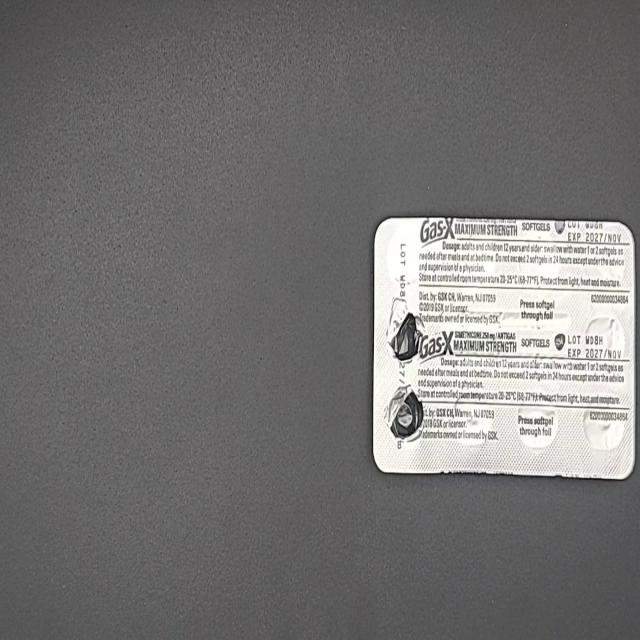defect: (380, 379, 428, 446), (383, 295, 428, 366)
